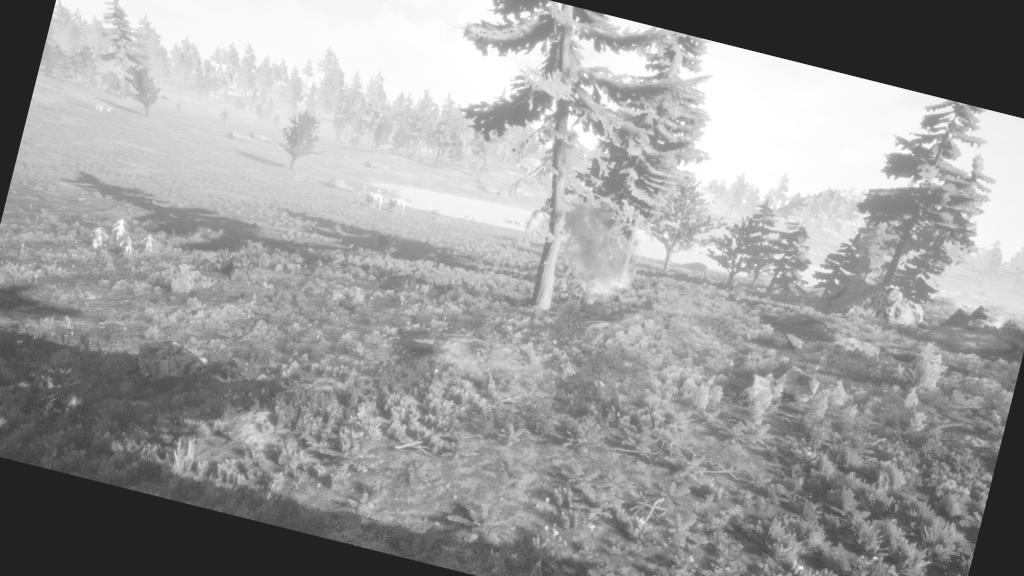Fire: (572, 255, 644, 320)
elephant: (356, 180, 390, 218), (386, 190, 412, 222)
